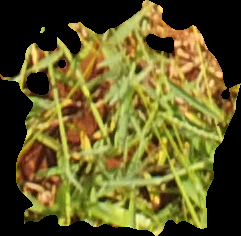grass: (1, 1, 240, 235)
